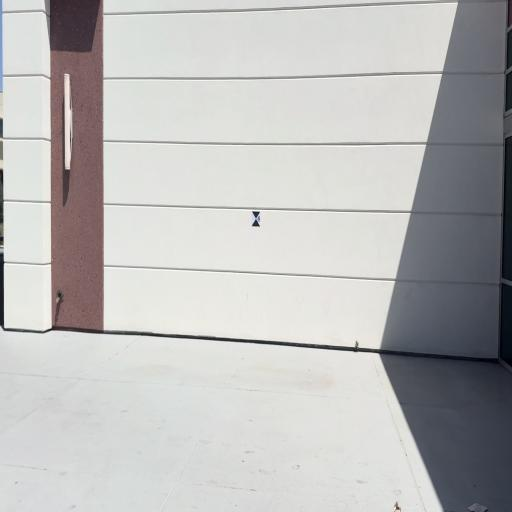target4: (252, 210, 262, 228)
